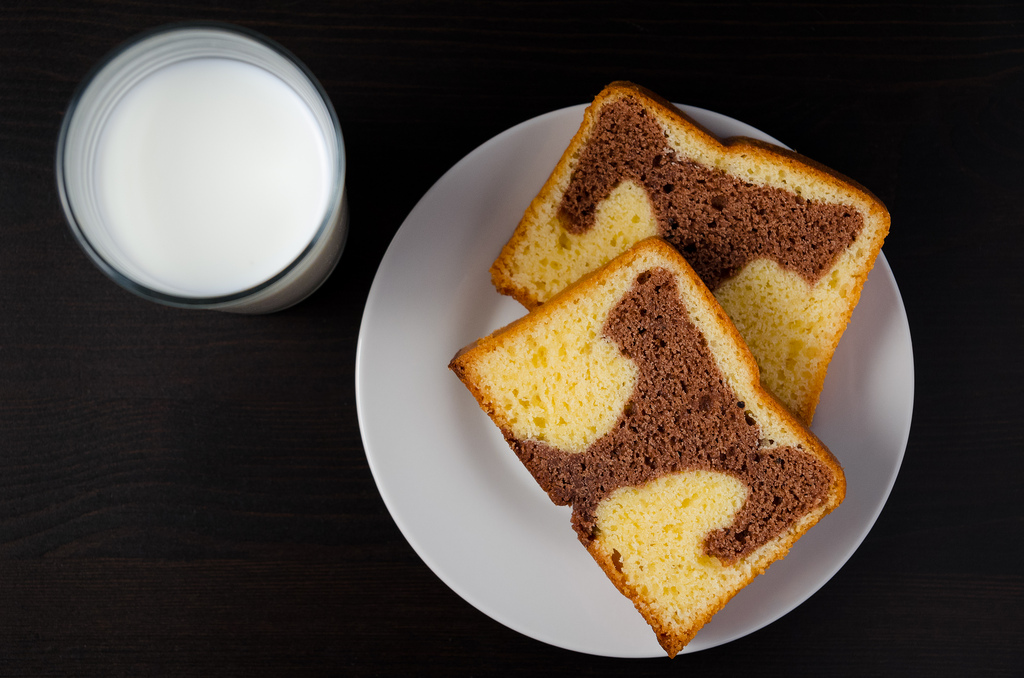glass of milk: (53, 26, 346, 317)
slice of bread: (439, 283, 849, 655), (547, 73, 853, 414)
